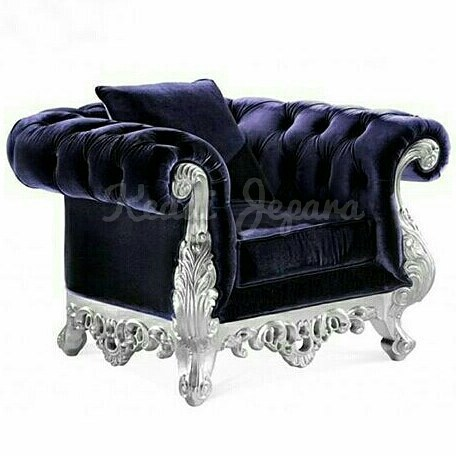Carving Chair: (19, 82, 441, 380)
